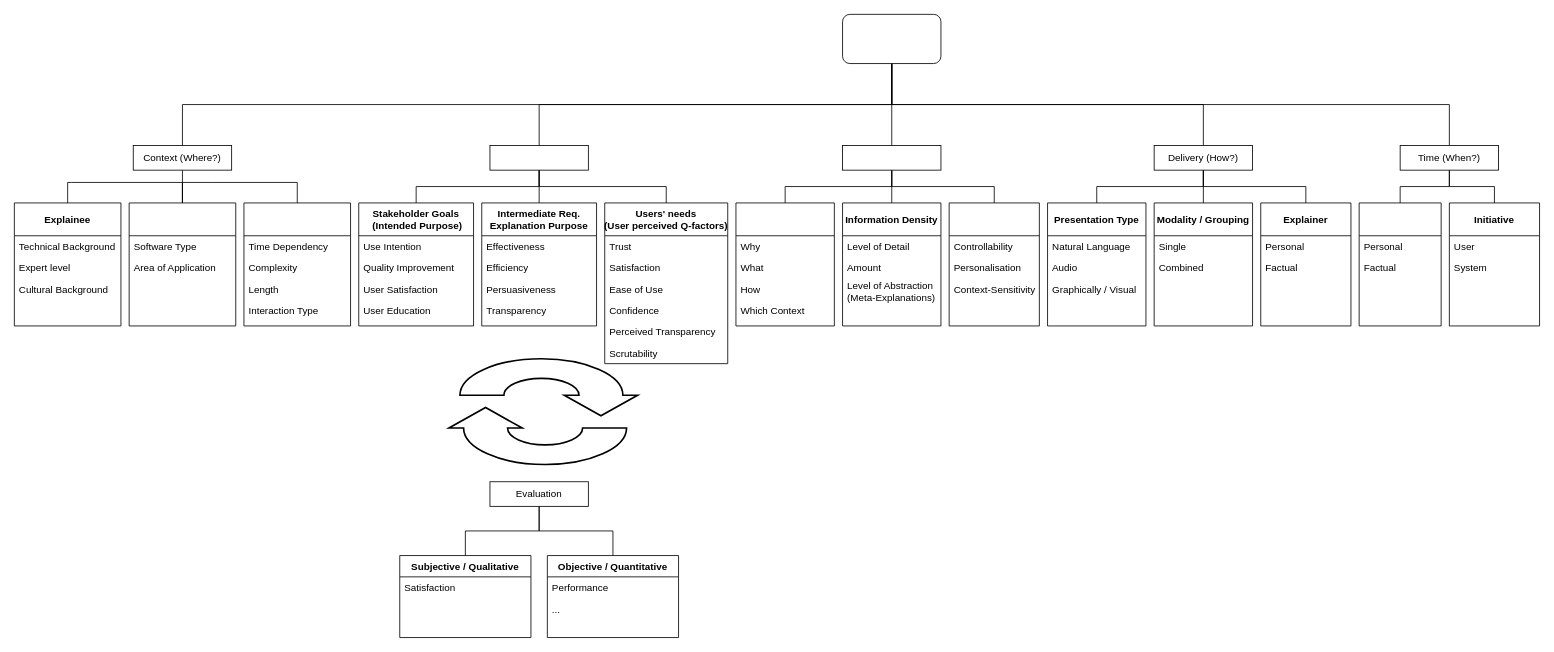
Image size: 1554x652. Some labels were removed from this diagram. The box of each missing label's shape, as (x1, y1, x2, y2) in pixels:
Adaptivity: (948, 202, 1039, 326)
Content (What): (842, 145, 941, 170)
Environment: (128, 202, 236, 326)
Explanation: (842, 14, 941, 64)
Information Type: (735, 202, 834, 326)
Purpose / Objective / Construct (Why?): (489, 145, 588, 170)
Situation -based: (1358, 202, 1441, 326)
Task: (243, 202, 351, 326)
